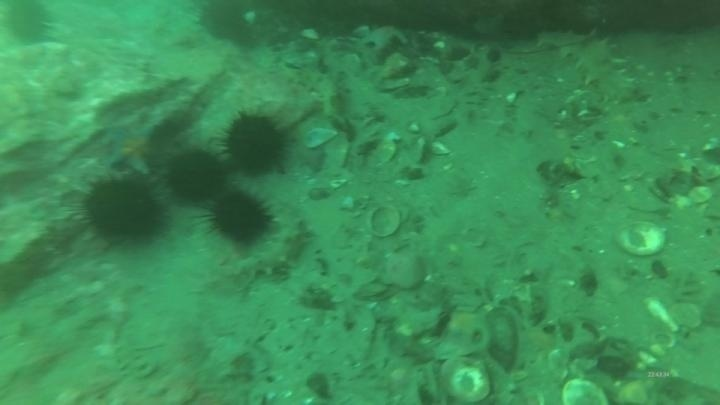echinus: (77, 175, 169, 247), (219, 109, 293, 178), (204, 188, 276, 249), (164, 147, 228, 205), (196, 1, 264, 50), (2, 1, 56, 48)
holothurian: (534, 25, 638, 105), (231, 215, 313, 283), (283, 63, 342, 120)
starfish: (101, 121, 161, 178)
